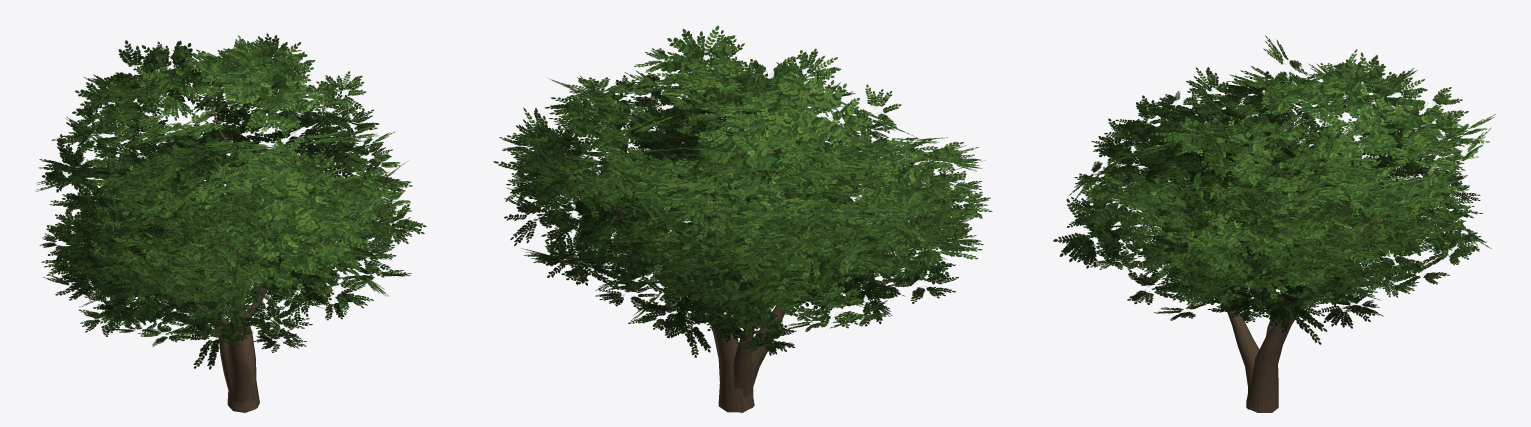
Rendered from trees.glb.
3 views of the same model, side by side, from view 1: azimuth 30°, elevation 25°; view 2: azimuth 150°, elevation 25°; view 3: azimuth 270°, elevation 25° (orthographic). The views are drawn at different scales.
Parts seen in each view (by area): view 1: tree_2_leaves, tree_0_leaves, tree_1_leaves, tree_0_wood, tree_2_wood, tree_1_wood; view 2: tree_2_leaves, tree_0_leaves, tree_1_leaves, tree_2_wood, tree_1_wood, tree_0_wood; view 3: tree_2_leaves, tree_0_leaves, tree_1_leaves, tree_2_wood, tree_0_wood.
Part boxes in pixels (x1,y1,x2,y2): tree_2_leaves: [36, 33, 408, 303]; tree_0_leaves: [53, 139, 426, 369]; tree_1_leaves: [39, 136, 361, 336]; tree_0_wood: [80, 191, 372, 412]; tree_2_wood: [93, 71, 332, 410]; tree_1_wood: [198, 255, 240, 395]; tree_2_leaves: [493, 25, 915, 344]; tree_0_leaves: [588, 58, 992, 316]; tree_1_leaves: [569, 123, 944, 357]; tree_2_wood: [538, 137, 807, 412]; tree_1_wood: [692, 199, 778, 412]; tree_0_wood: [713, 130, 929, 408]; tree_2_leaves: [1127, 35, 1495, 344]; tree_0_leaves: [1053, 85, 1350, 320]; tree_1_leaves: [1158, 122, 1435, 328]; tree_2_wood: [1237, 136, 1439, 412]; tree_0_wood: [1139, 163, 1259, 409].
Bounding box in the file's own units: 10.92 × 8.93 × 10.99.
Materials: 2 (2 with a texture image).
